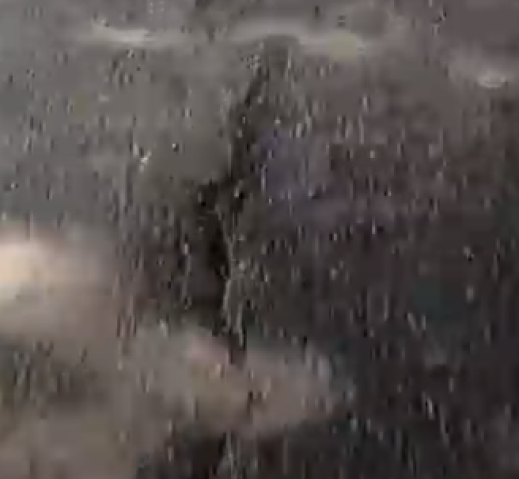Retak Melintang: (10, 24, 508, 473)
